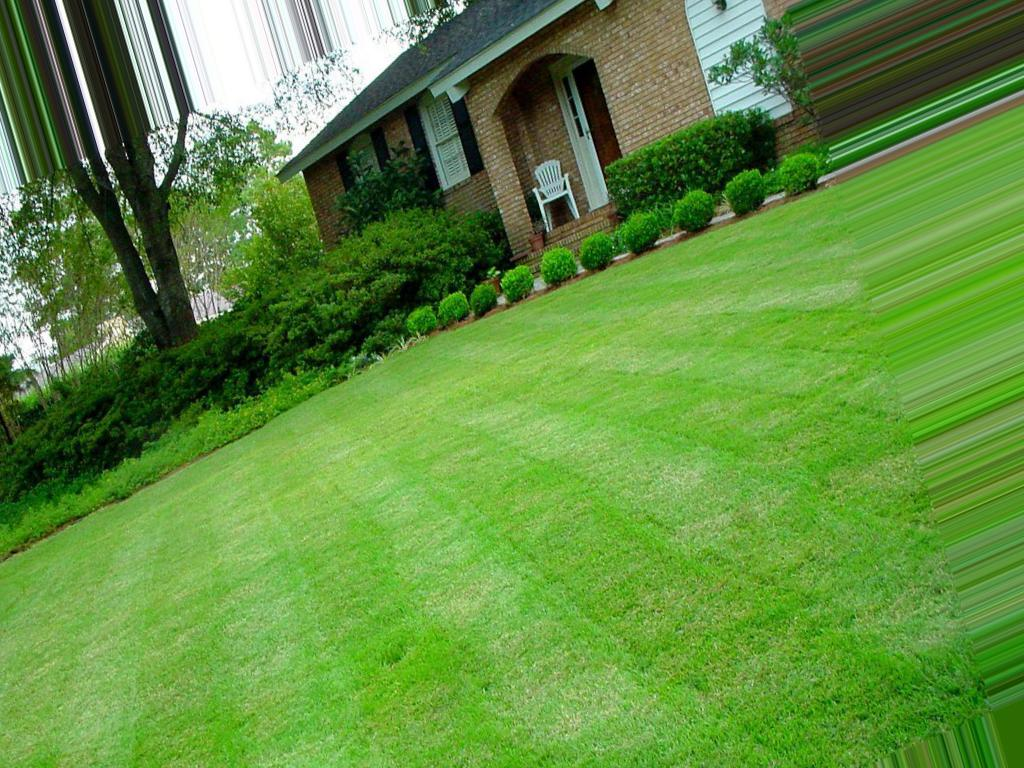patch: (442, 584, 467, 611), (458, 313, 471, 318)
